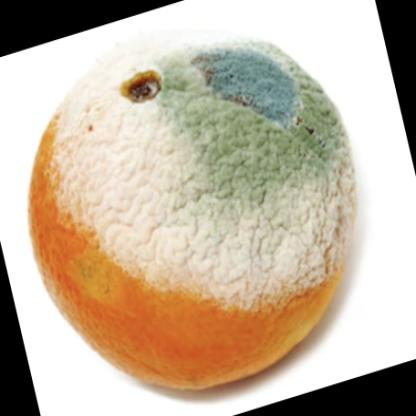rotten: (30, 41, 357, 387)
